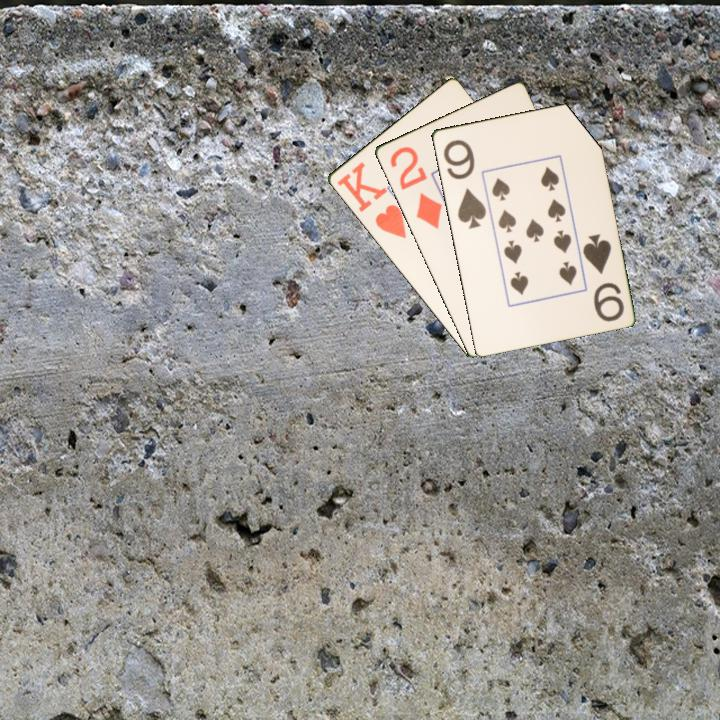2d: (386, 143, 445, 232)
9s: (439, 136, 489, 232), (579, 230, 627, 324)
Kh: (333, 158, 409, 241)
